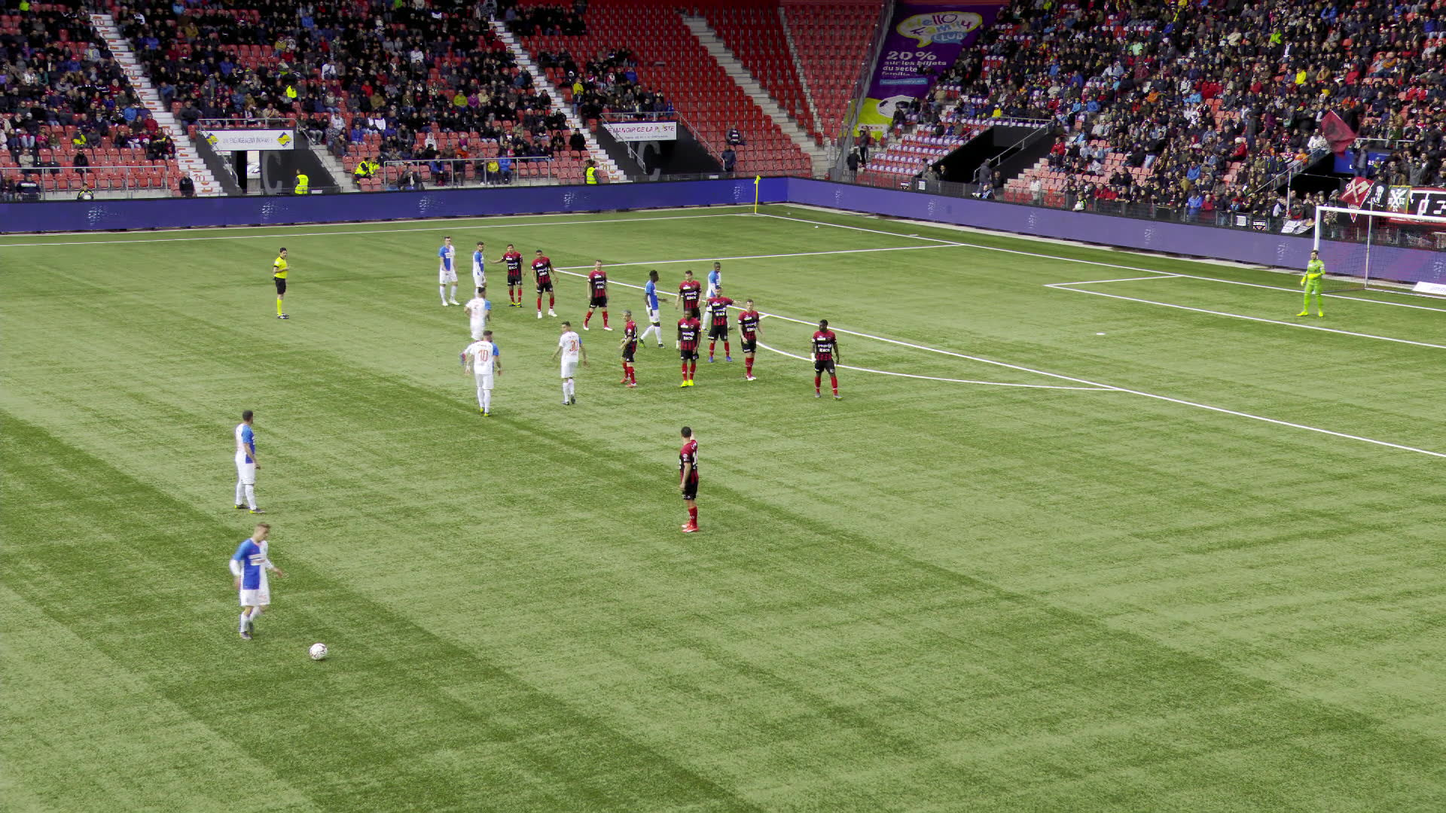ball: (309, 644, 325, 659)
player: (224, 522, 283, 641), (467, 329, 502, 418), (233, 410, 263, 513), (552, 321, 587, 405), (705, 285, 743, 361), (808, 317, 842, 399), (458, 285, 490, 368), (677, 425, 700, 530), (638, 269, 668, 349), (489, 243, 525, 307), (582, 258, 613, 331), (737, 297, 764, 380), (673, 307, 700, 386), (676, 269, 702, 348), (1295, 249, 1324, 315), (530, 248, 557, 317), (618, 309, 639, 385), (438, 236, 458, 306), (703, 261, 722, 331), (471, 241, 488, 308)
referee: (272, 248, 291, 320)
